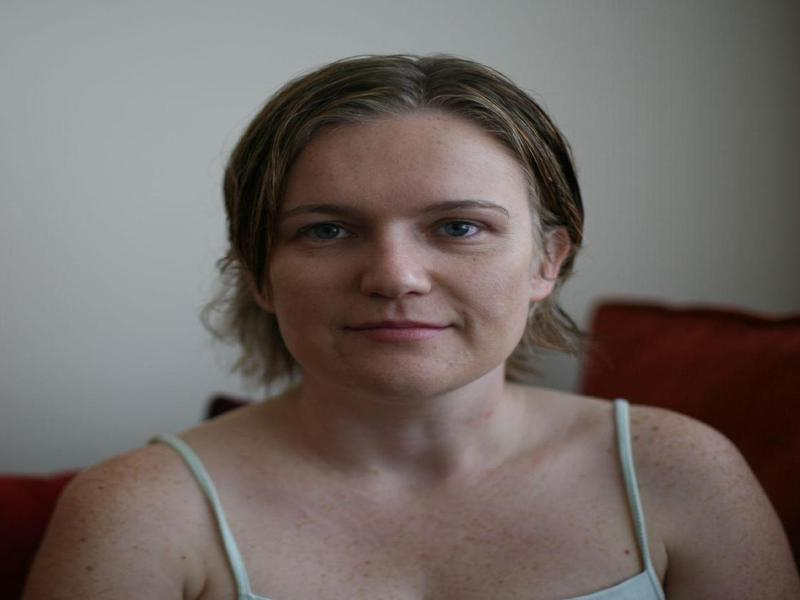person: (47, 59, 786, 600)
